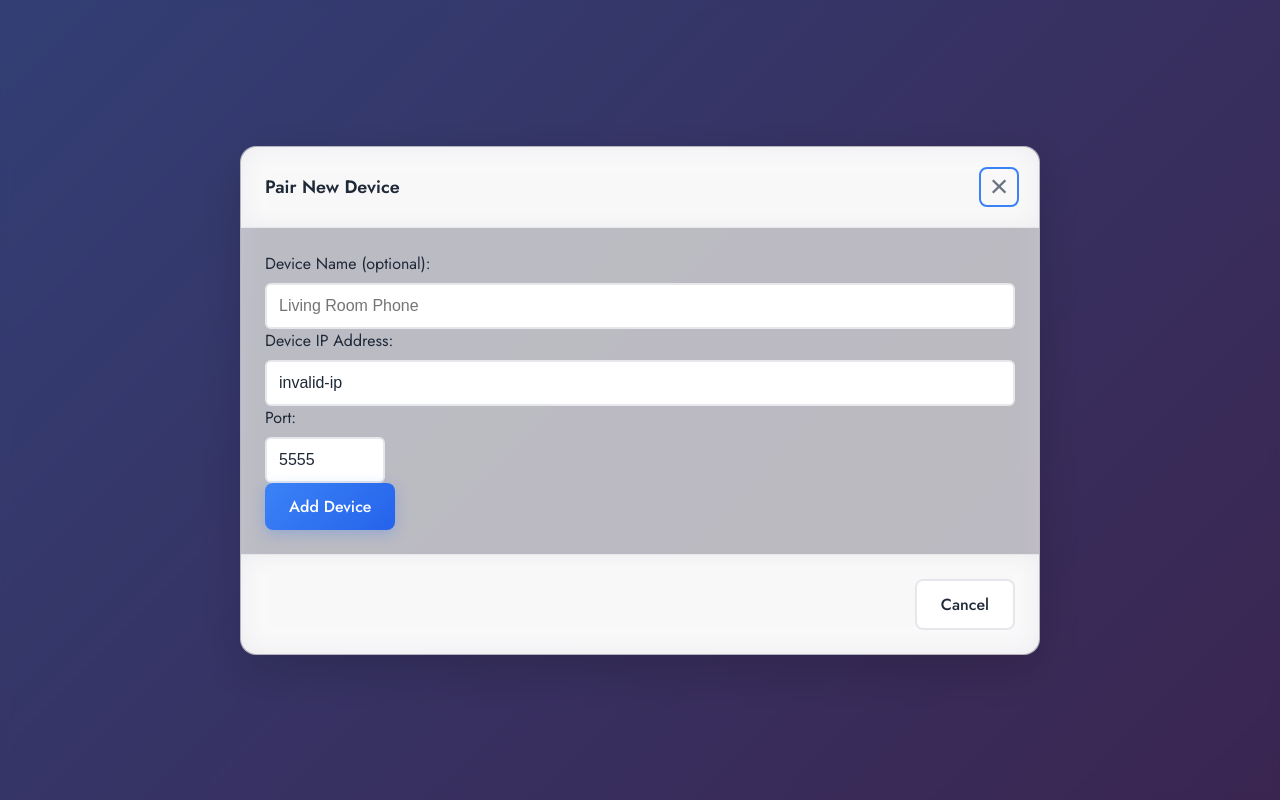
PairDeviceModal › IP address validation › shows error for invalid IP address format
Click the button "Add Device": click(330, 506) x1=265 y1=482 x2=396 y2=530
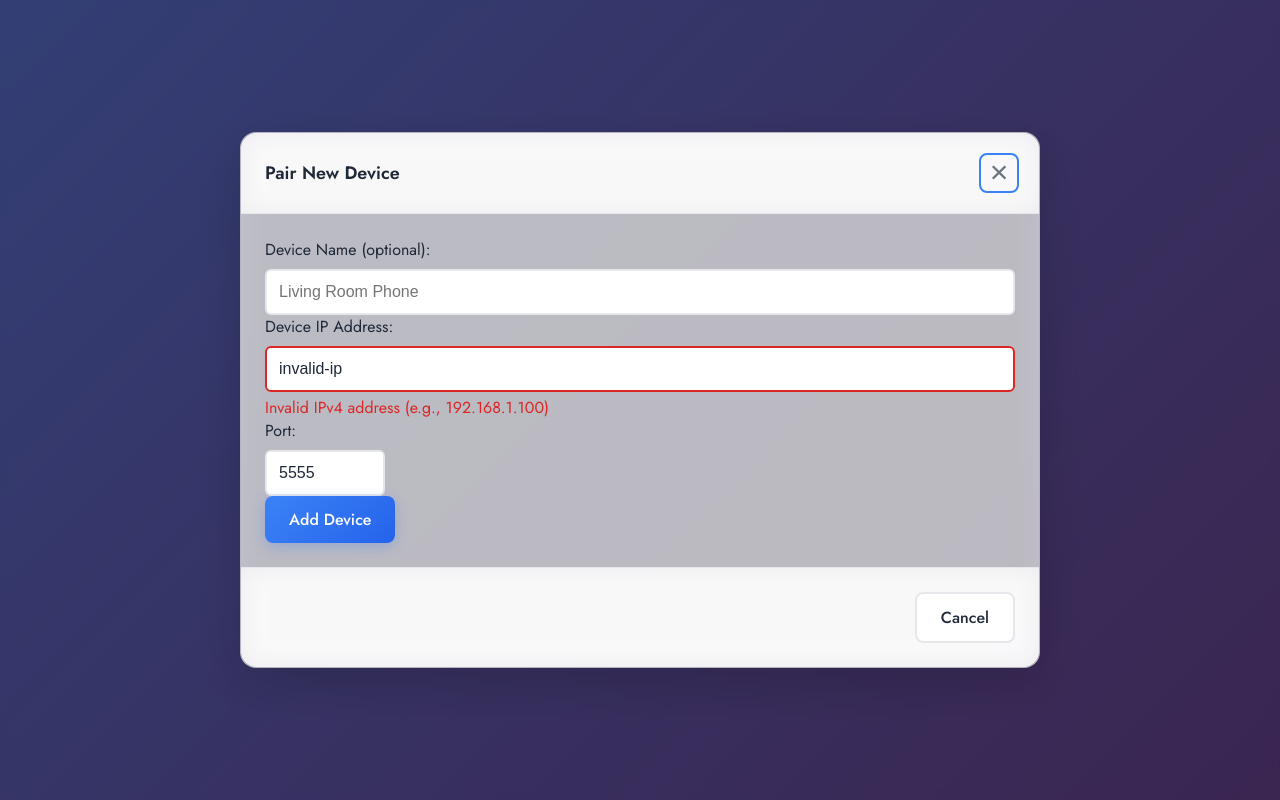
Result: the text "Invalid IPv4 address (e.g., 192.168.1.100)" is shown at x1=265 y1=396 x2=549 y2=419
